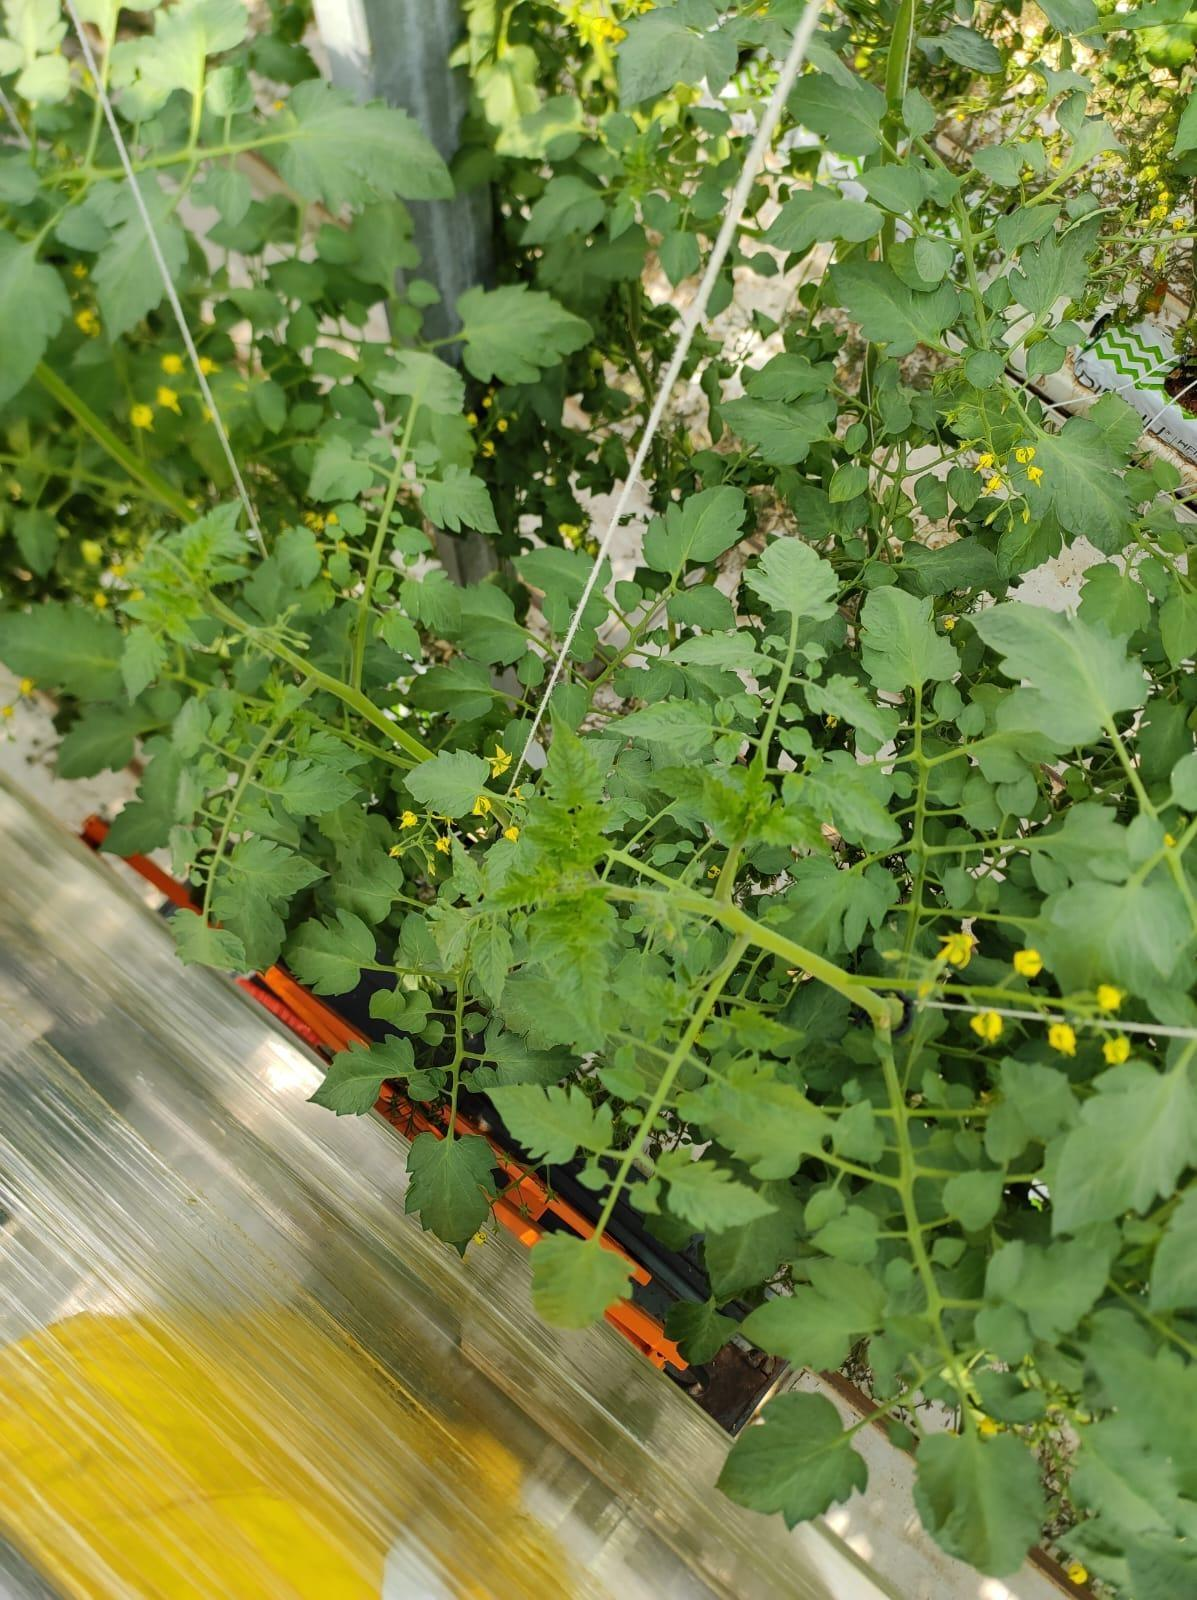Rugose stem: (600, 933, 748, 1225)
